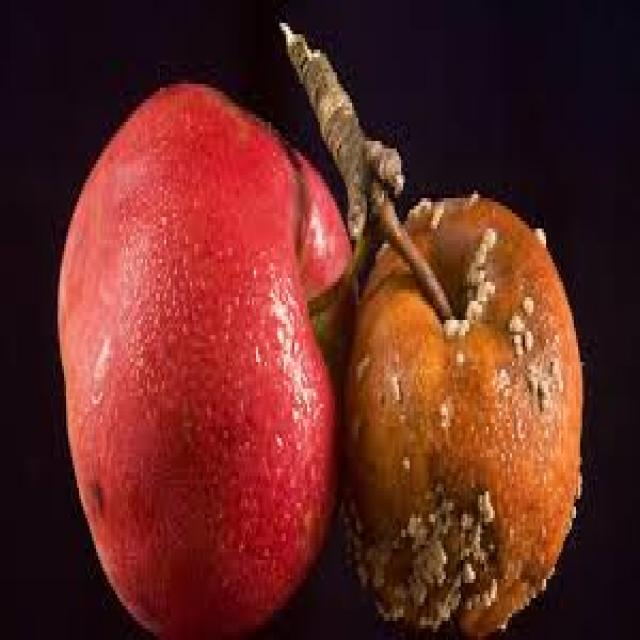organic waste: (56, 76, 354, 636), (339, 194, 580, 636), (294, 38, 459, 320)
